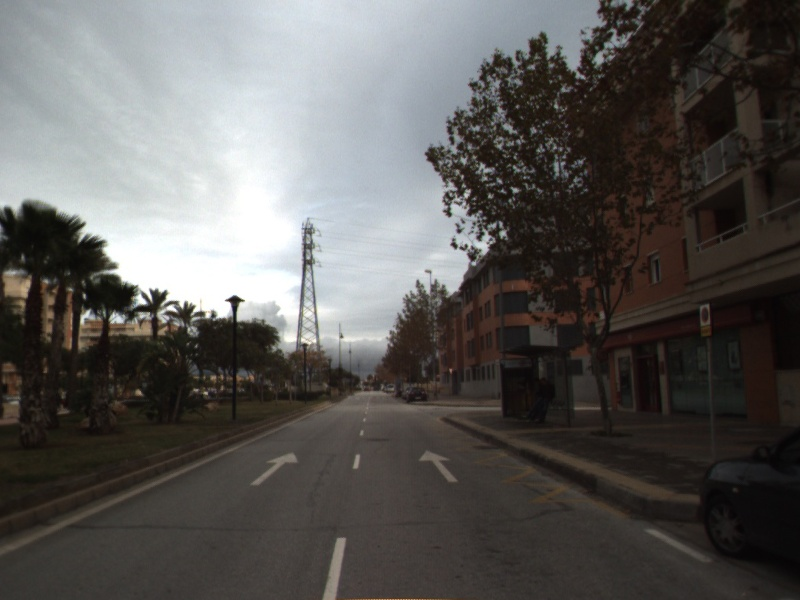STRAIGHT: (248, 450, 300, 487), (416, 448, 460, 484)
